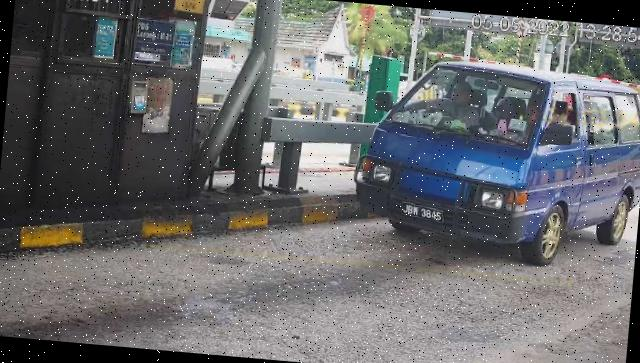License_Plate: (399, 202, 446, 227)
van: (348, 52, 640, 274)
